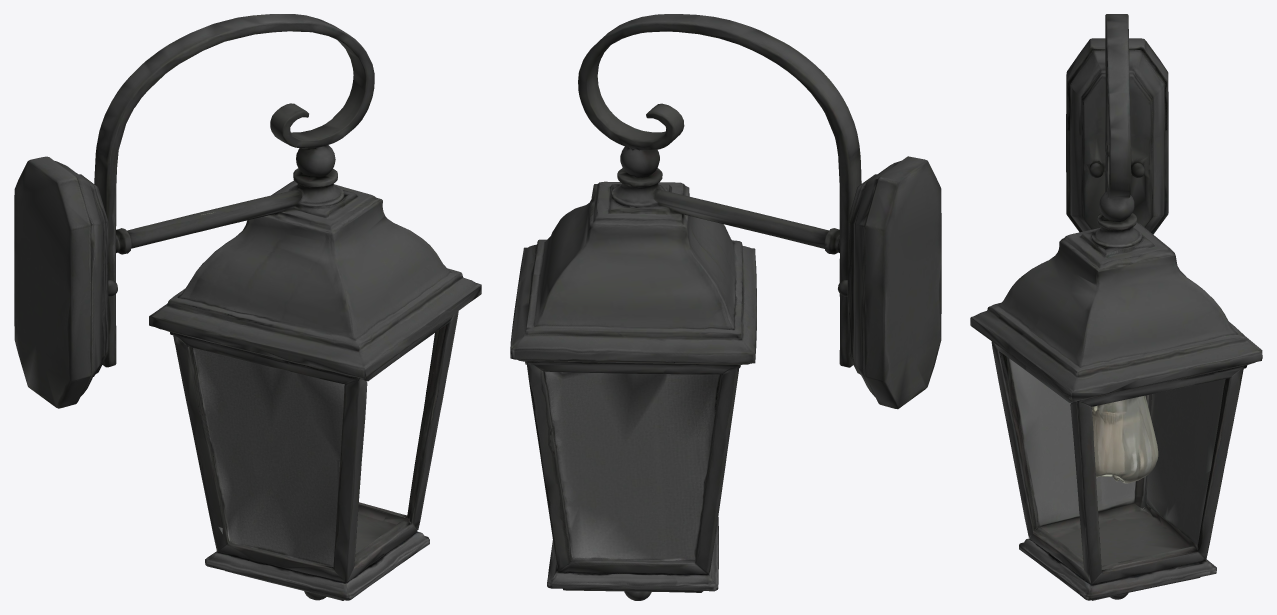
The model's file is lantern.glb.
3 views of the same model, side by side, from view 1: azimuth 30°, elevation 25°; view 2: azimuth 150°, elevation 25°; view 3: azimuth 270°, elevation 25° (orthographic). The views are drawn at different scales.
Parts seen in each view (by area): view 1: tripo_node_d0acc25a-cbff-4f93-b70c-04f4e6ec9c09; view 2: tripo_node_d0acc25a-cbff-4f93-b70c-04f4e6ec9c09; view 3: tripo_node_d0acc25a-cbff-4f93-b70c-04f4e6ec9c09.
Boxes of the visible parts, x1,y1,x2,y2 form: tripo_node_d0acc25a-cbff-4f93-b70c-04f4e6ec9c09: (14, 14, 481, 600); tripo_node_d0acc25a-cbff-4f93-b70c-04f4e6ec9c09: (510, 14, 941, 600); tripo_node_d0acc25a-cbff-4f93-b70c-04f4e6ec9c09: (970, 14, 1262, 600).
Bounding box in the file's own units: 0.364 × 0.4997 × 0.2493.
Materials: 1 (1 with a texture image).
